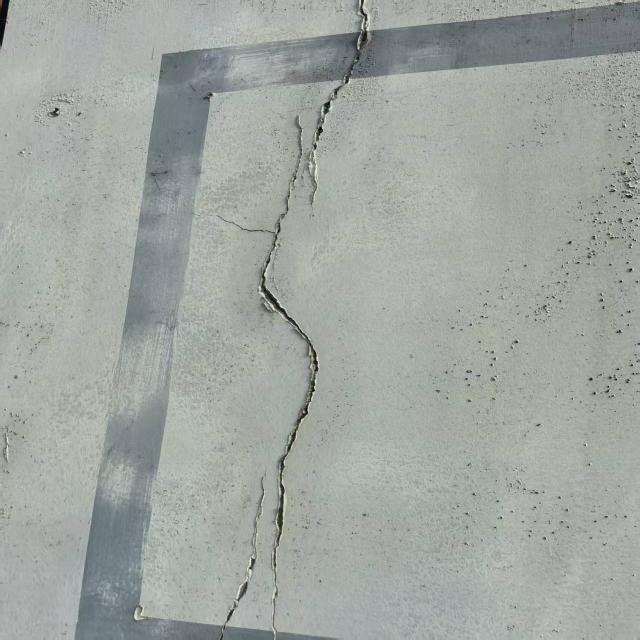crack: (207, 5, 382, 638)
